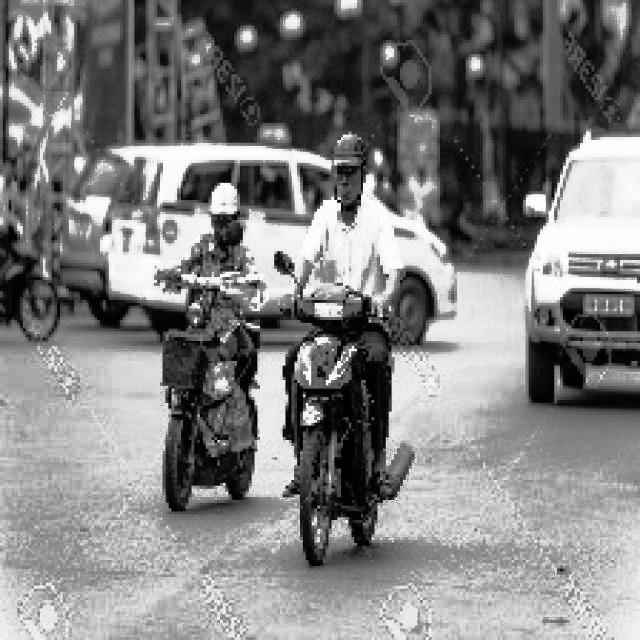Bike: (285, 308, 401, 552), (161, 293, 265, 511)
